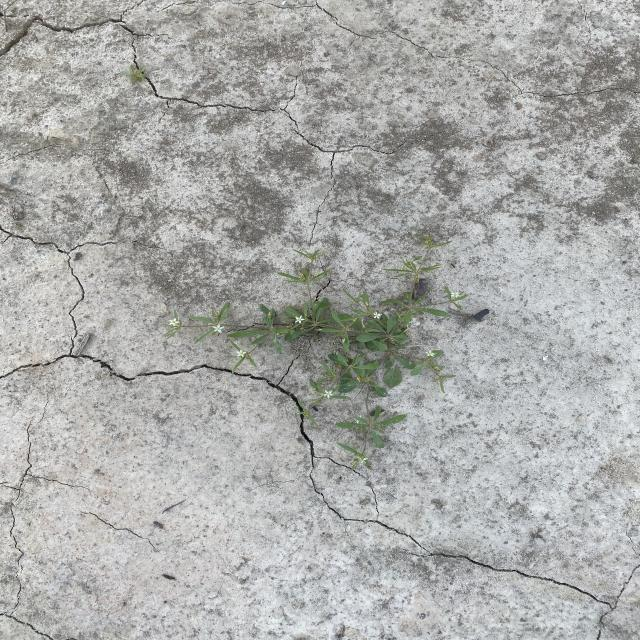Carpetweed: (158, 225, 471, 474)
